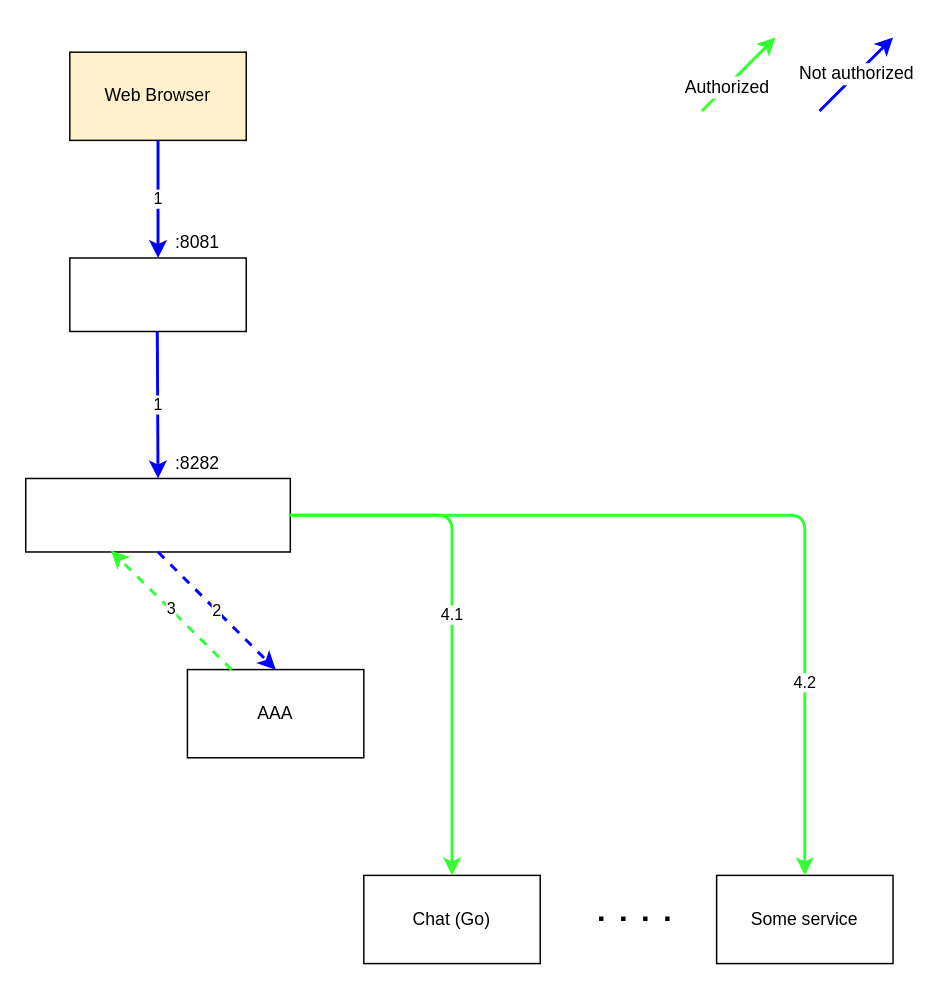
The diagram is 939 pixels wide and 989 high, and some of its shapes have lost their labels. The shapes that lost their labels are listed below. From the top down, each one's box as (x1, y1, x2, y2) in pixels, then its label:
(68, 257, 246, 331): nginx (static)
(24, 477, 290, 552): spring-cloud-gateway
